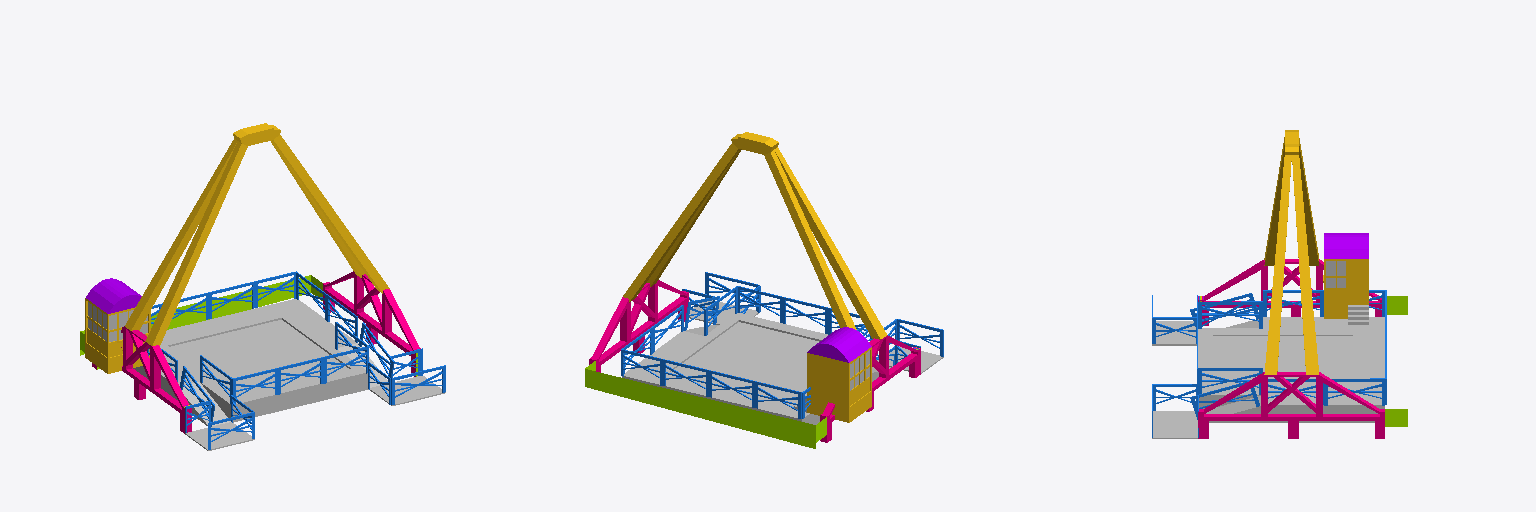
The picture shows the model from 3 angles: view 1: azimuth 30°, elevation 25°; view 2: azimuth 150°, elevation 25°; view 3: azimuth 270°, elevation 25°; orthographic projection.
Visible parts, largest first — view 1: estructura_Top+Spin; view 2: estructura_Top+Spin; view 3: estructura_Top+Spin.
Boxes of the visible parts, x1=… form: estructura_Top+Spin: x1=80, y1=123, x2=445, y2=450; estructura_Top+Spin: x1=585, y1=132, x2=943, y2=448; estructura_Top+Spin: x1=1152, y1=130, x2=1407, y2=438.
Bounding box in the file's own units: 61.38 × 56.43 × 54.03.
3 materials, 1 textured.